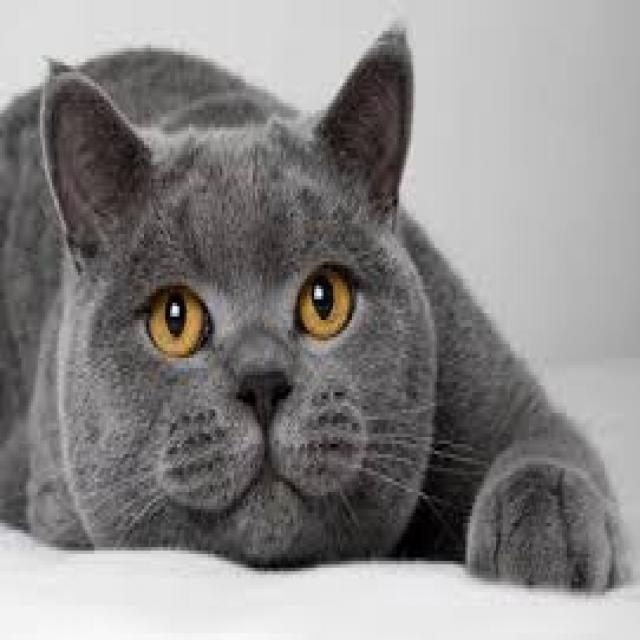cat: (0, 30, 605, 621)
